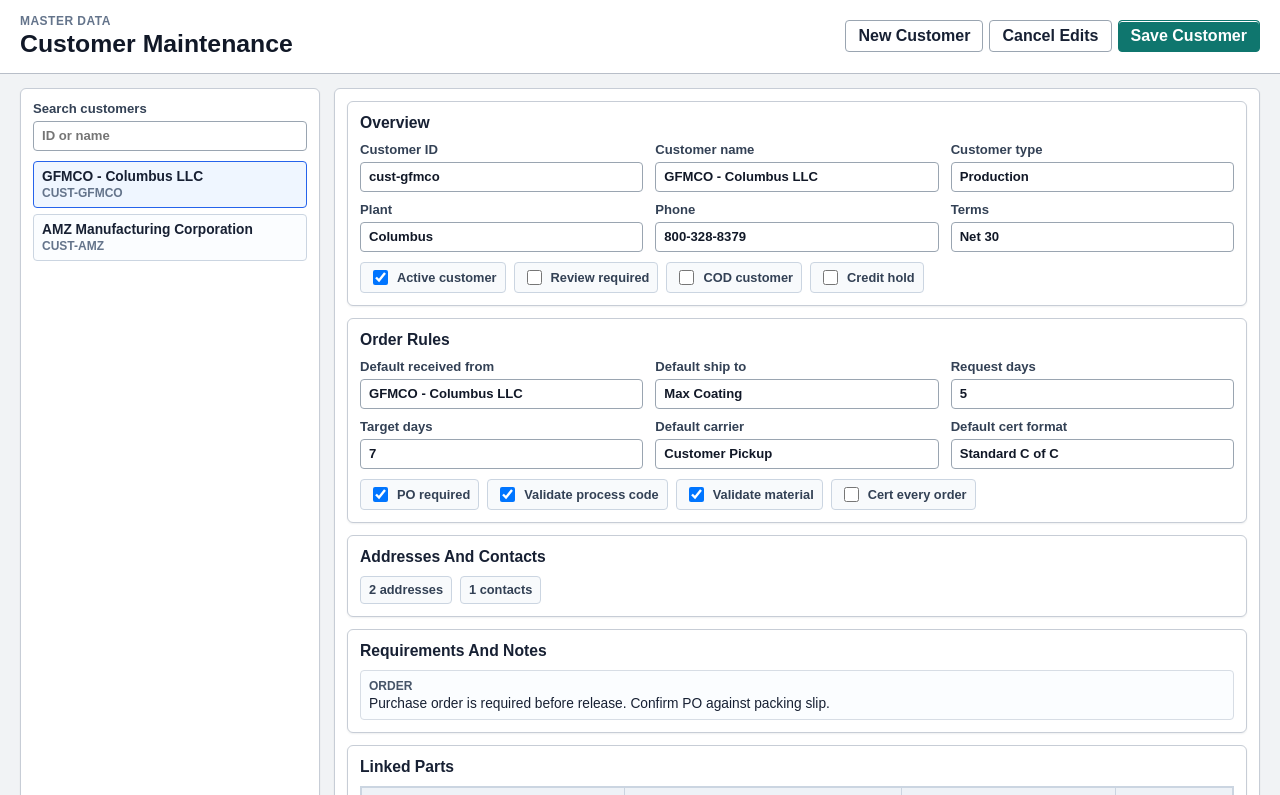
Test: CustomerMaintenanceModule › filters customers by AMZ, selects AMZ, and shows linked parts
Type "AMZ" into the search field labelled "Search customers" at (170, 136), box [33, 120, 307, 150]
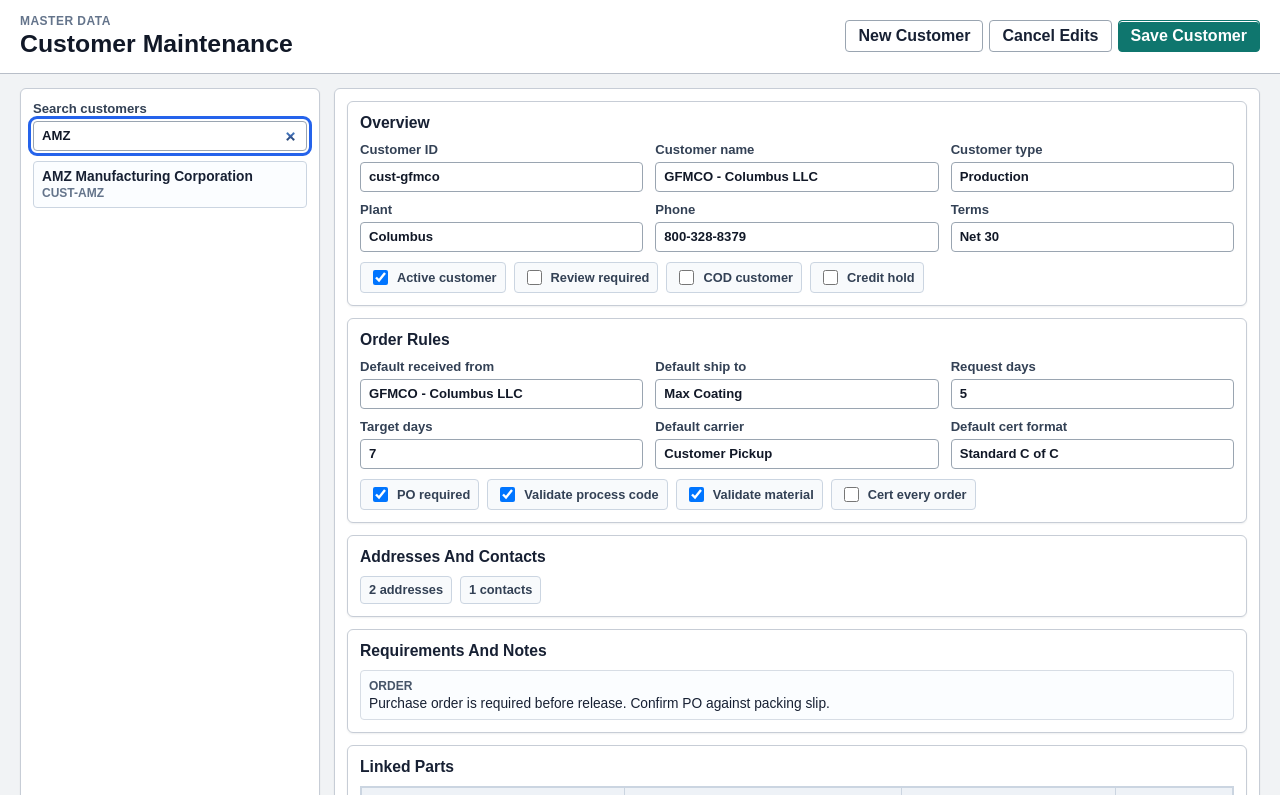
Click the button "AMZ Manufacturing Corporation cust-amz" at (170, 184), box [33, 160, 307, 208]
(page scrolled)
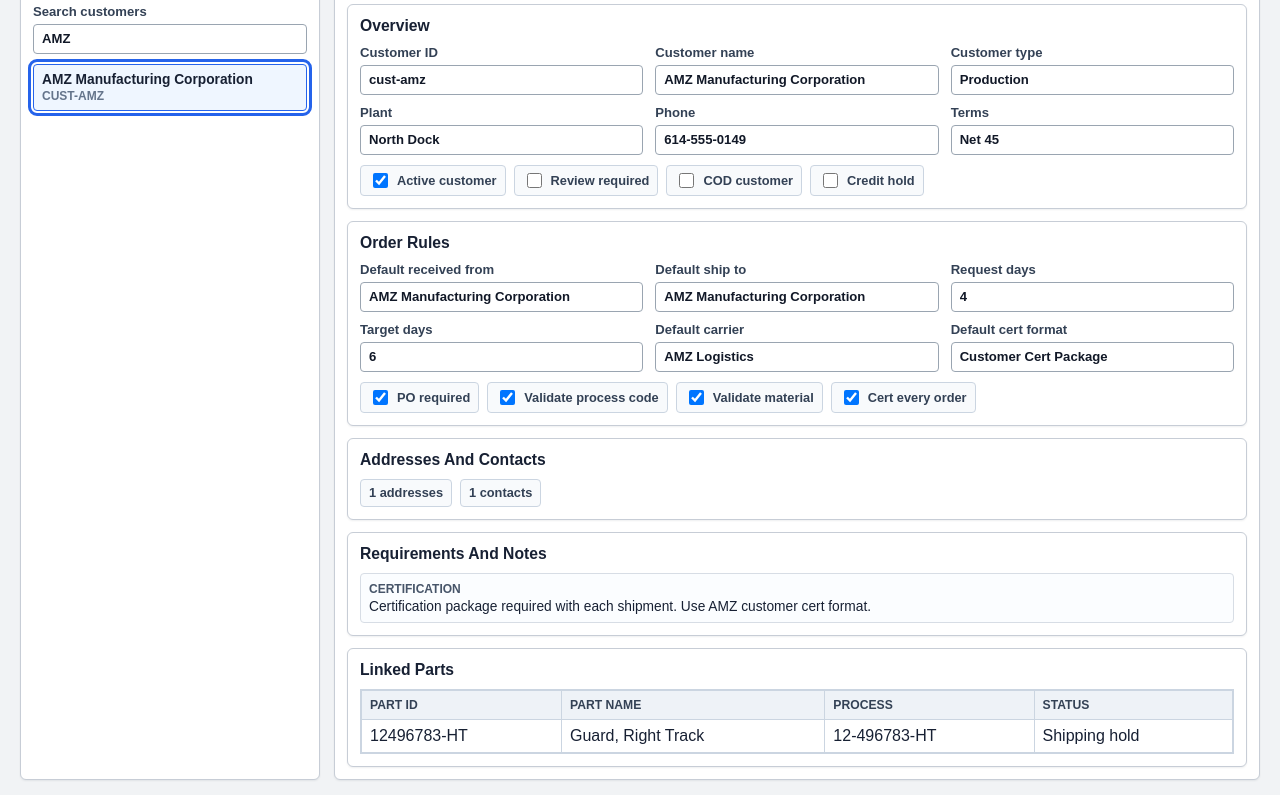
Now the field labelled "Customer name" holds "AMZ Manufacturing Corporation", box [655, 64, 939, 94]
Now the text "12496783-HT" is shown, box [362, 719, 561, 752]
Now the text "Shipping hold" is shown, box [1034, 719, 1232, 752]
